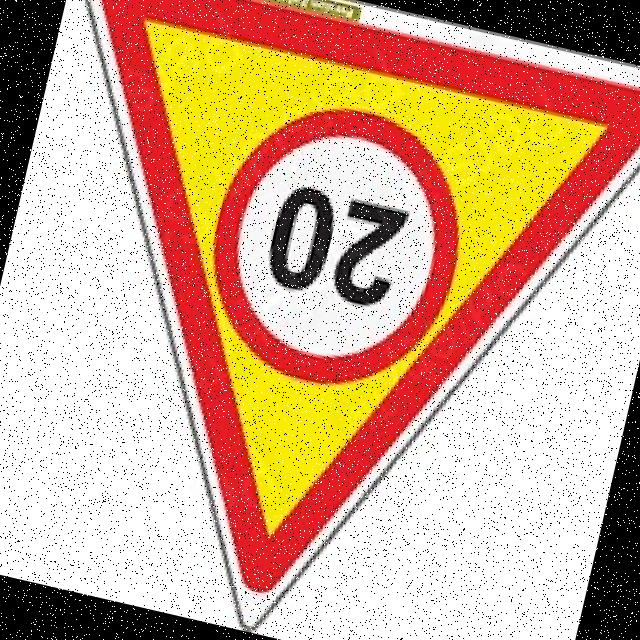speed_limit_20: (180, 82, 486, 412)
